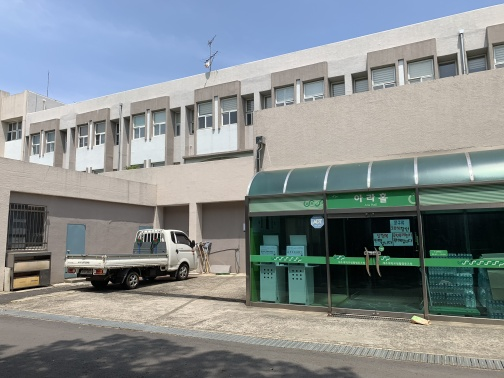Ara Hall: (244, 137, 502, 329)
